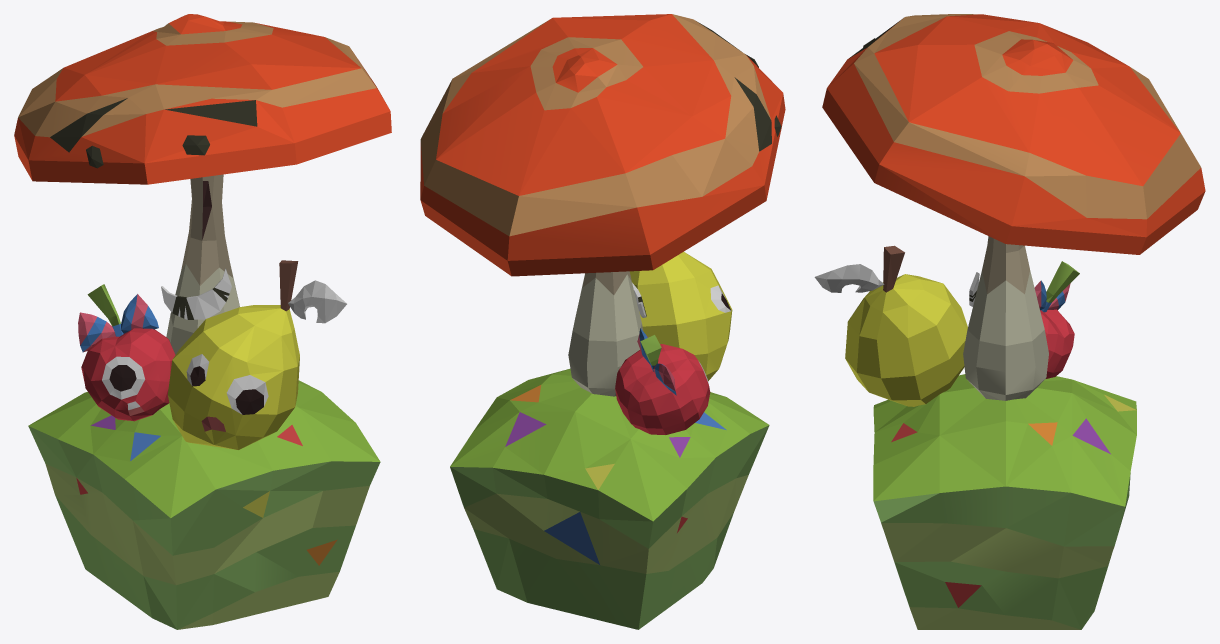
Rendered from 0055_VacationHomeWork.fbx.
The picture shows the model from 3 angles, left to right: view 1: azimuth 30°, elevation 25°; view 2: azimuth 150°, elevation 25°; view 3: azimuth 270°, elevation 25°; orthographic projection. The views are drawn at different scales.
Visible parts, largest first — view 1: Stage, Mushroom_Head, Lemon_Body, Cherry, Mushroom_Body, Cherry_q, Mushroom_mouth, leaf; view 2: Mushroom_Head, Stage, Lemon_Body, Mushroom_Body, Cherry, Cherry_q; view 3: Mushroom_Head, Stage, Lemon_Body, Mushroom_Body, Cherry, leaf, Cherry_q.
Boxes of the visible parts, x1,y1,x2,y2 form: Stage: (28,380,380,629); Mushroom_Head: (14,14,391,184); Lemon_Body: (167,260,299,449); Cherry: (81,328,175,421); Mushroom_Body: (166,174,239,354); Cherry_q: (78,284,158,352); Mushroom_mouth: (161,268,231,319); leaf: (288,280,346,323); Mushroom_Head: (420,14,785,276); Stage: (450,369,769,629); Lemon_Body: (629,251,732,380); Mushroom_Body: (568,271,643,396); Cherry: (615,344,710,434); Cherry_q: (637,328,676,395); Mushroom_Head: (822,14,1205,254); Stage: (873,374,1136,629); Lemon_Body: (845,245,967,406); Mushroom_Body: (963,236,1048,400); Cherry: (1040,309,1074,378); leaf: (814,264,884,292); Cherry_q: (1034,261,1079,312).
Bounding box in the file's own units: 6.12 × 9.42 × 6.07.
